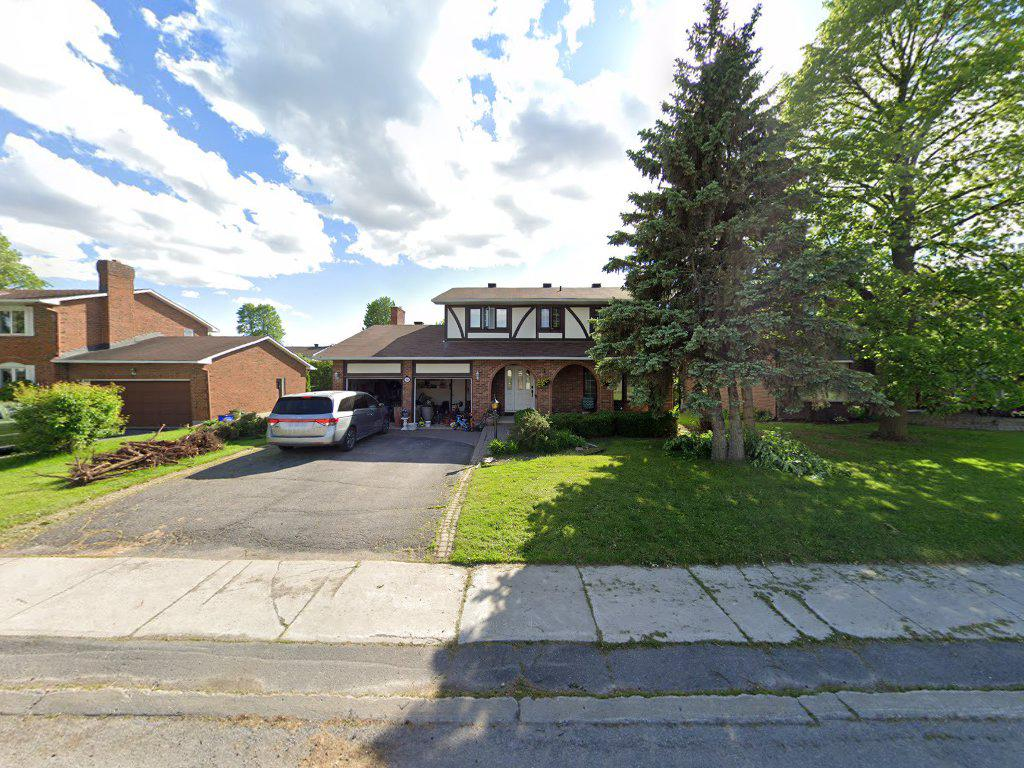trunk: (704, 381, 761, 460)
